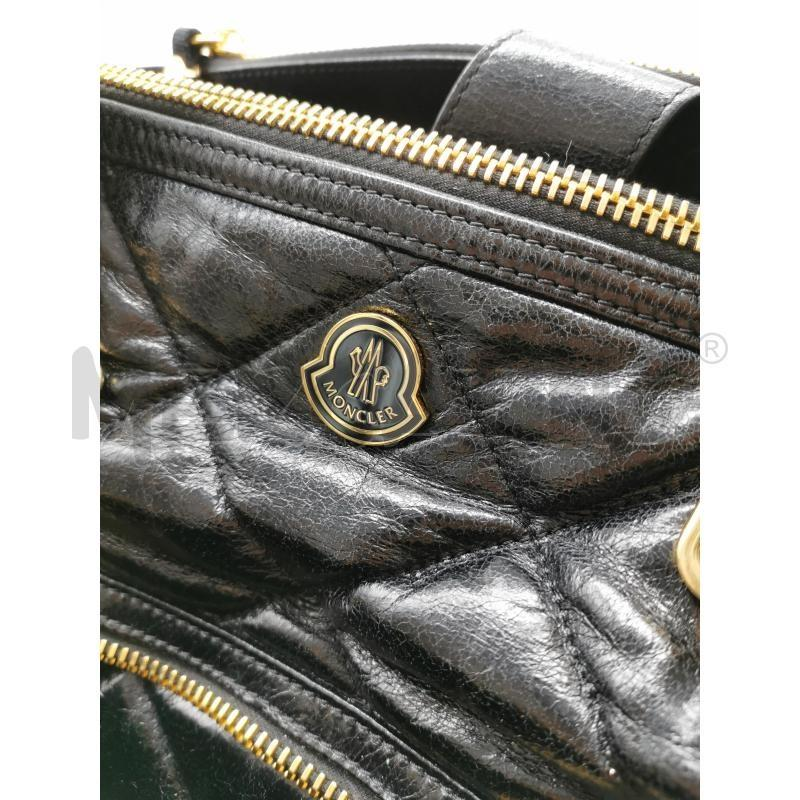MONCLER: (298, 309, 428, 447)
